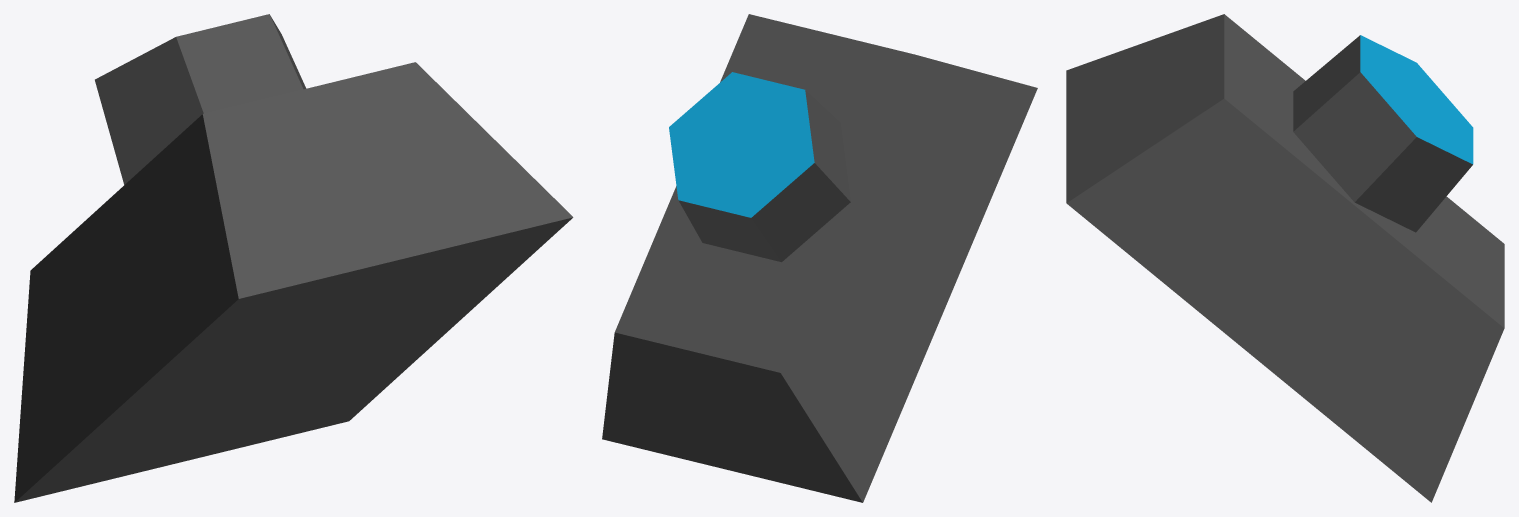
File: Tractor1.fbx
3 renders of one model, left to right at view 1: azimuth 30°, elevation 25°; view 2: azimuth 150°, elevation 25°; view 3: azimuth 270°, elevation 25°, orthographic. The views are drawn at different scales.
Visible parts, largest first — view 1: tractor1; view 2: tractor1; view 3: tractor1.
Part boxes in pixels (bbox=[...]): tractor1: bbox=[14, 14, 573, 502]; tractor1: bbox=[602, 14, 1037, 502]; tractor1: bbox=[1066, 14, 1504, 502].
Size of the model in its own units: 0.2723 by 0.1955 by 0.2619.
